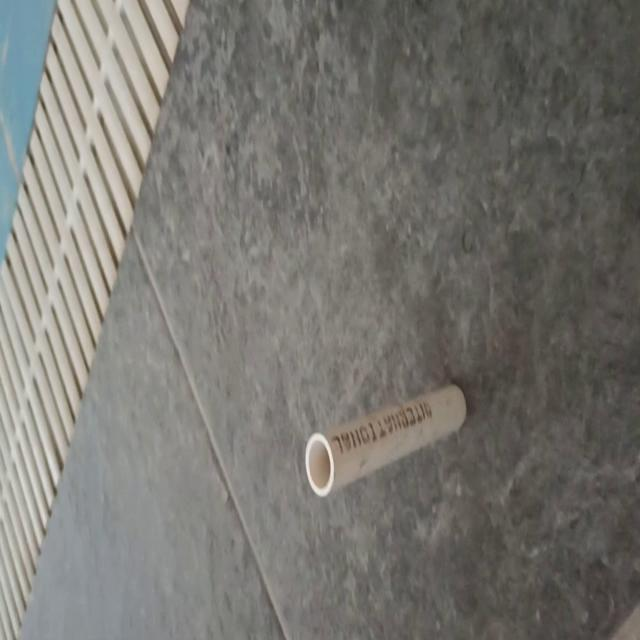Cube: (304, 381, 467, 498)
